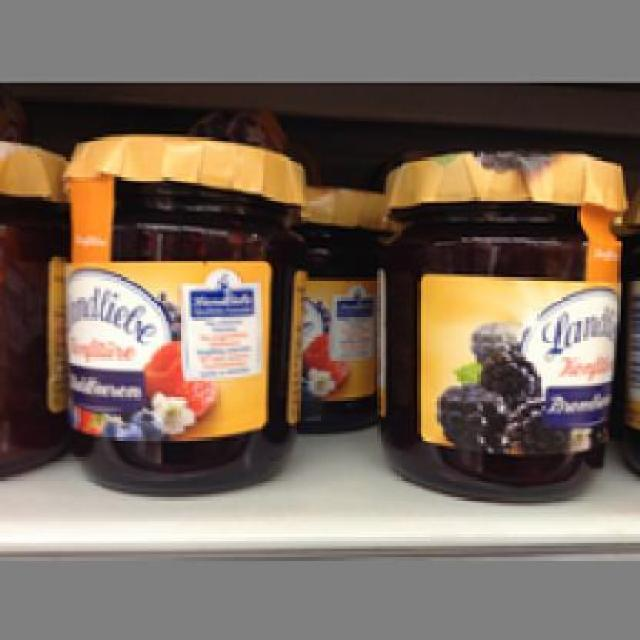Jam: (368, 146, 626, 500), (60, 132, 303, 498), (0, 130, 66, 483)
